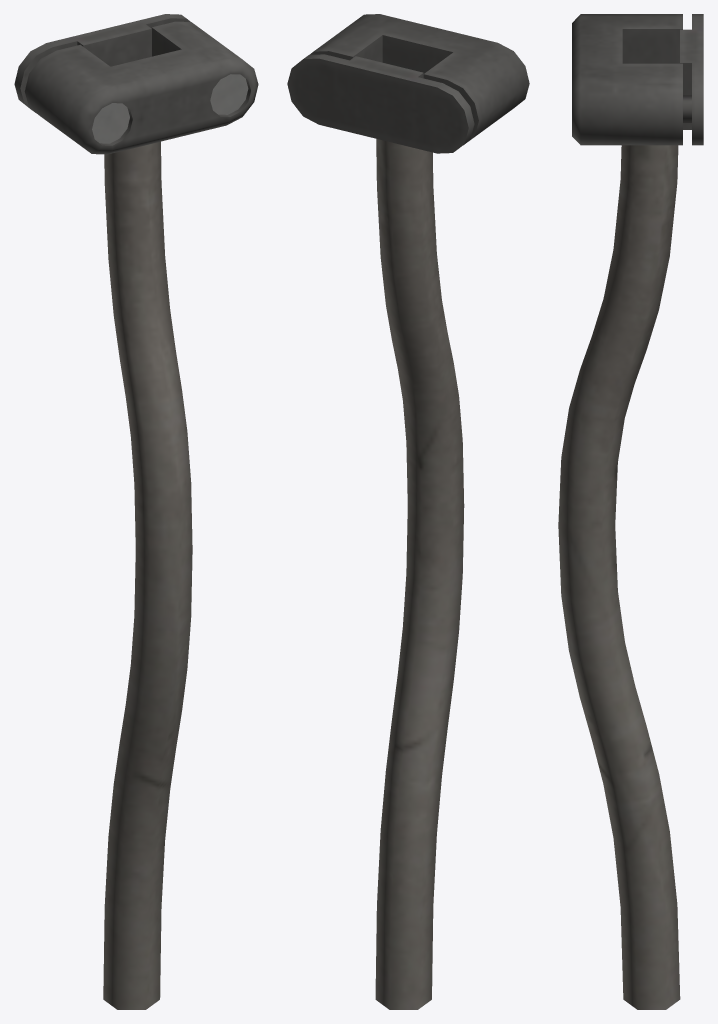
File: cable_bridge_2.glb
3 views of the same model, side by side, from view 1: azimuth 30°, elevation 25°; view 2: azimuth 150°, elevation 25°; view 3: azimuth 270°, elevation 25° (orthographic).
Visible parts, largest first — view 1: cable_bridge_2.001; view 2: cable_bridge_2.001; view 3: cable_bridge_2.001.
Part boxes in pixels (x1=…): cable_bridge_2.001: x1=14, y1=14, x2=258, y2=1009; cable_bridge_2.001: x1=287, y1=14, x2=529, y2=1009; cable_bridge_2.001: x1=558, y1=14, x2=703, y2=1009.
Bounding box in the file's own units: 0.0416 × 0.2073 × 0.0286.
1 material, 1 textured.
